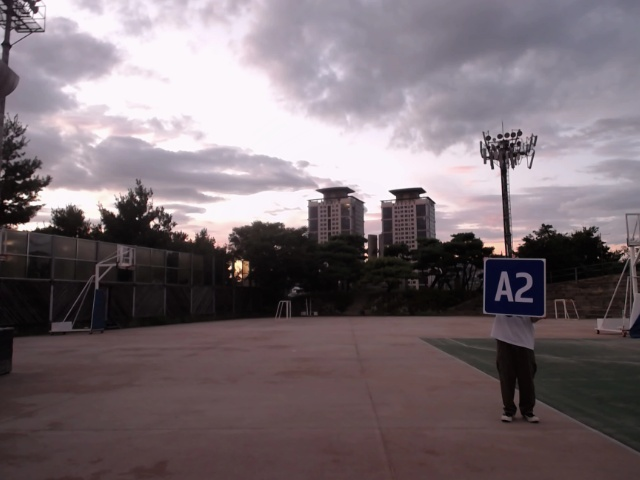delivery_a2: (483, 257, 546, 316)
